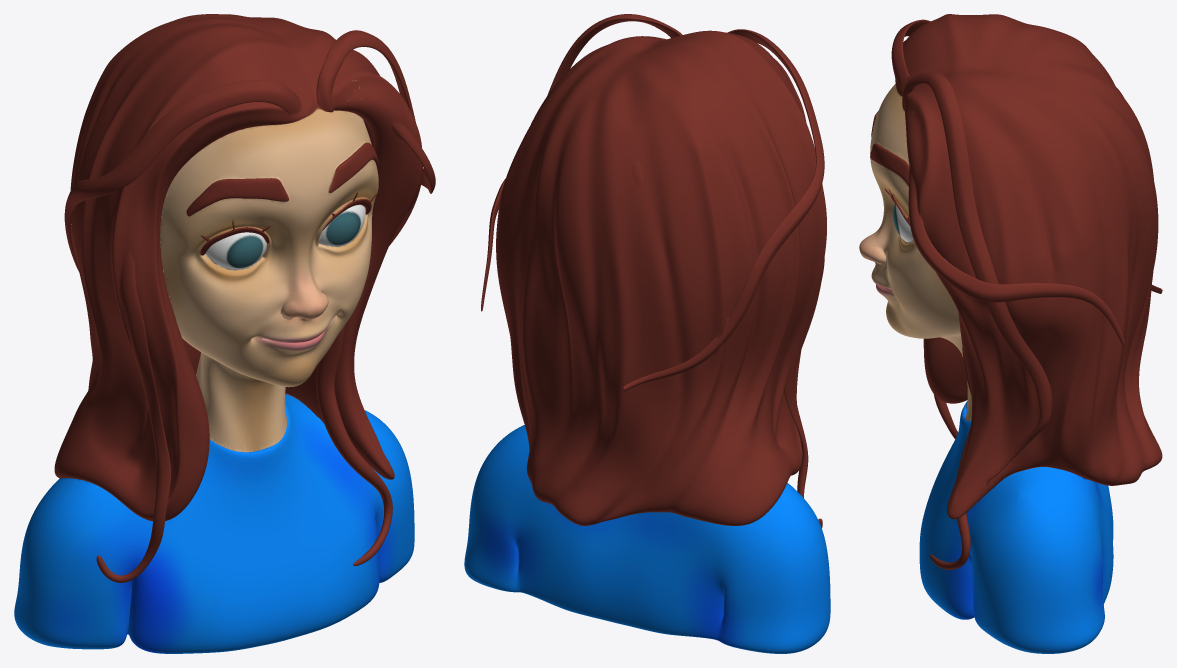
File: Girl2.glb
The picture shows the model from 3 angles, left to right: view 1: azimuth 30°, elevation 25°; view 2: azimuth 150°, elevation 25°; view 3: azimuth 270°, elevation 25°; orthographic projection. The views are drawn at different scales.
Visible parts, largest first — view 1: Girl_2_Avataar; view 2: Girl_2_Avataar; view 3: Girl_2_Avataar.
Boxes of the visible parts, x1,y1,x2,y2 form: Girl_2_Avataar: (14,14,435,653); Girl_2_Avataar: (464,14,830,653); Girl_2_Avataar: (859,14,1162,653).
Bounding box in the file's own units: 33.71 × 50.71 × 25.66.
Materials: 1 (1 with a texture image).
